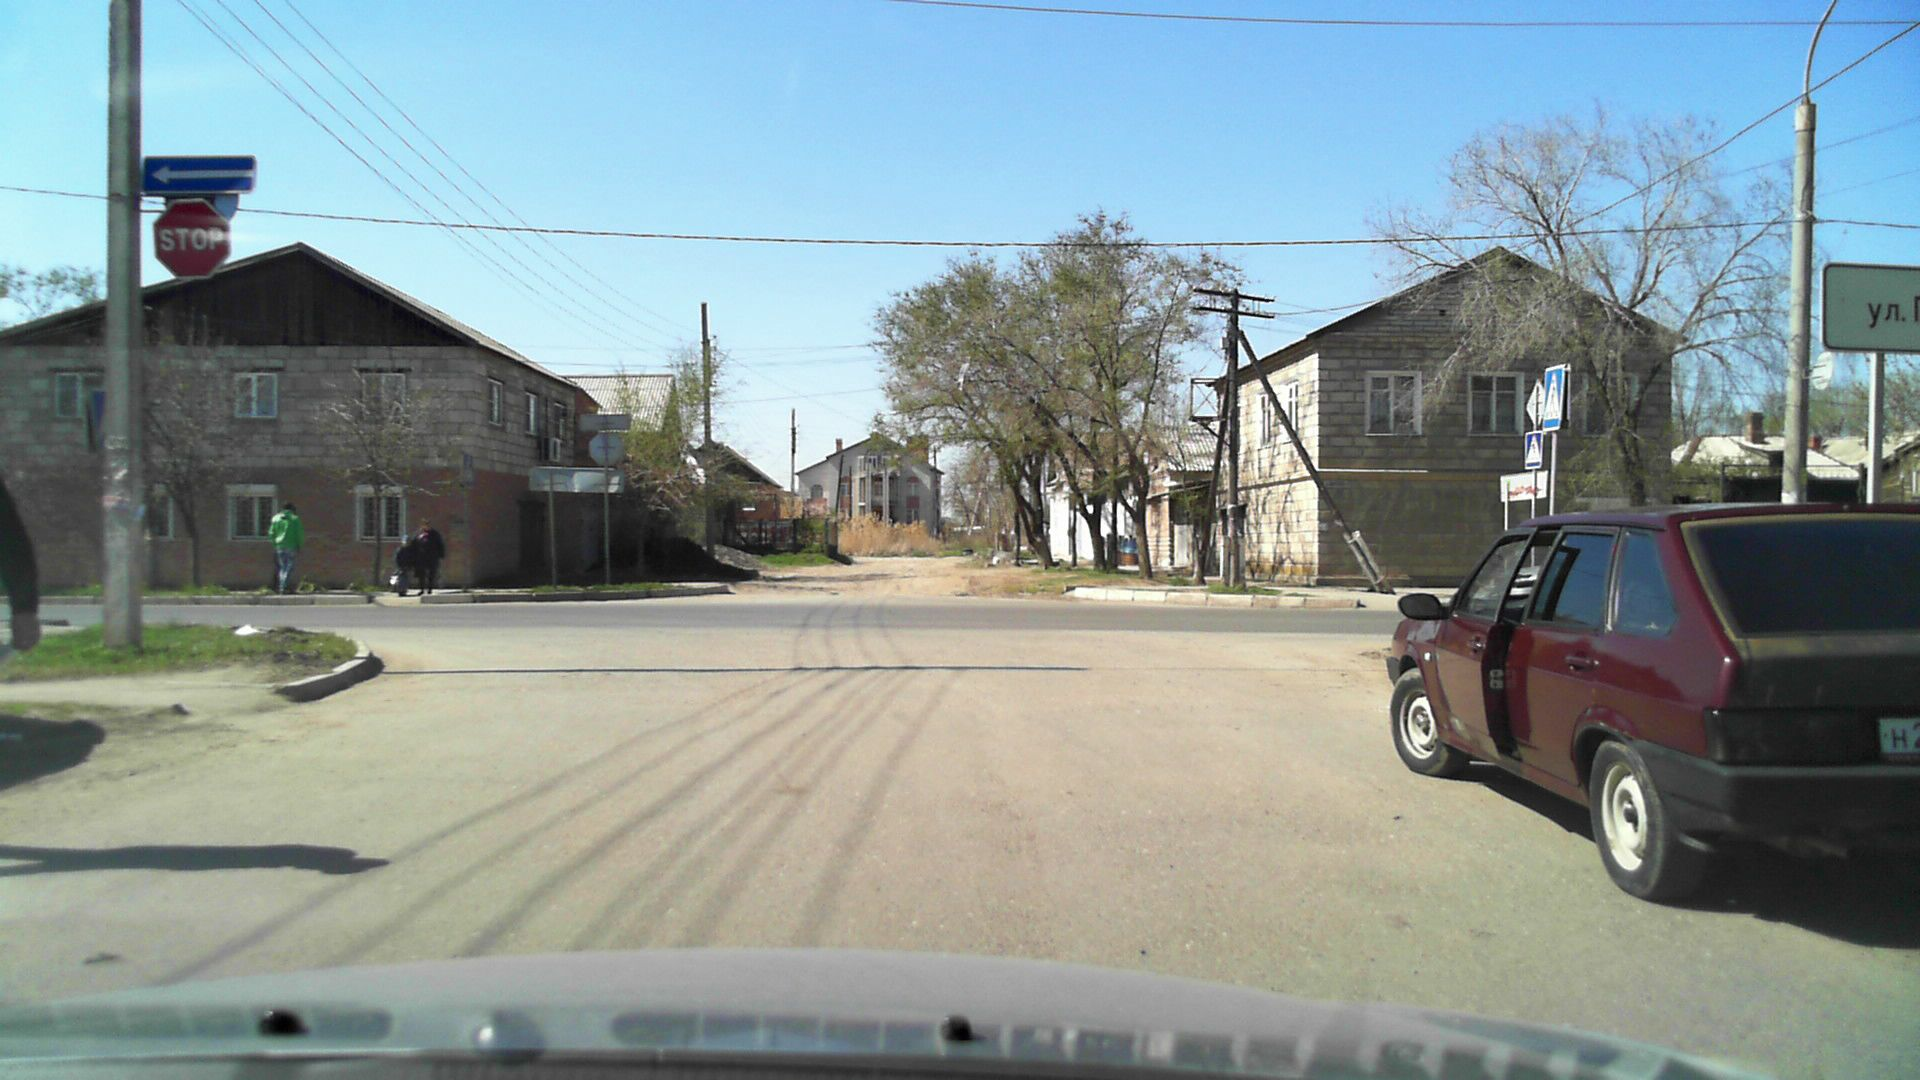One-Way Traffic: (142, 156, 255, 193)
